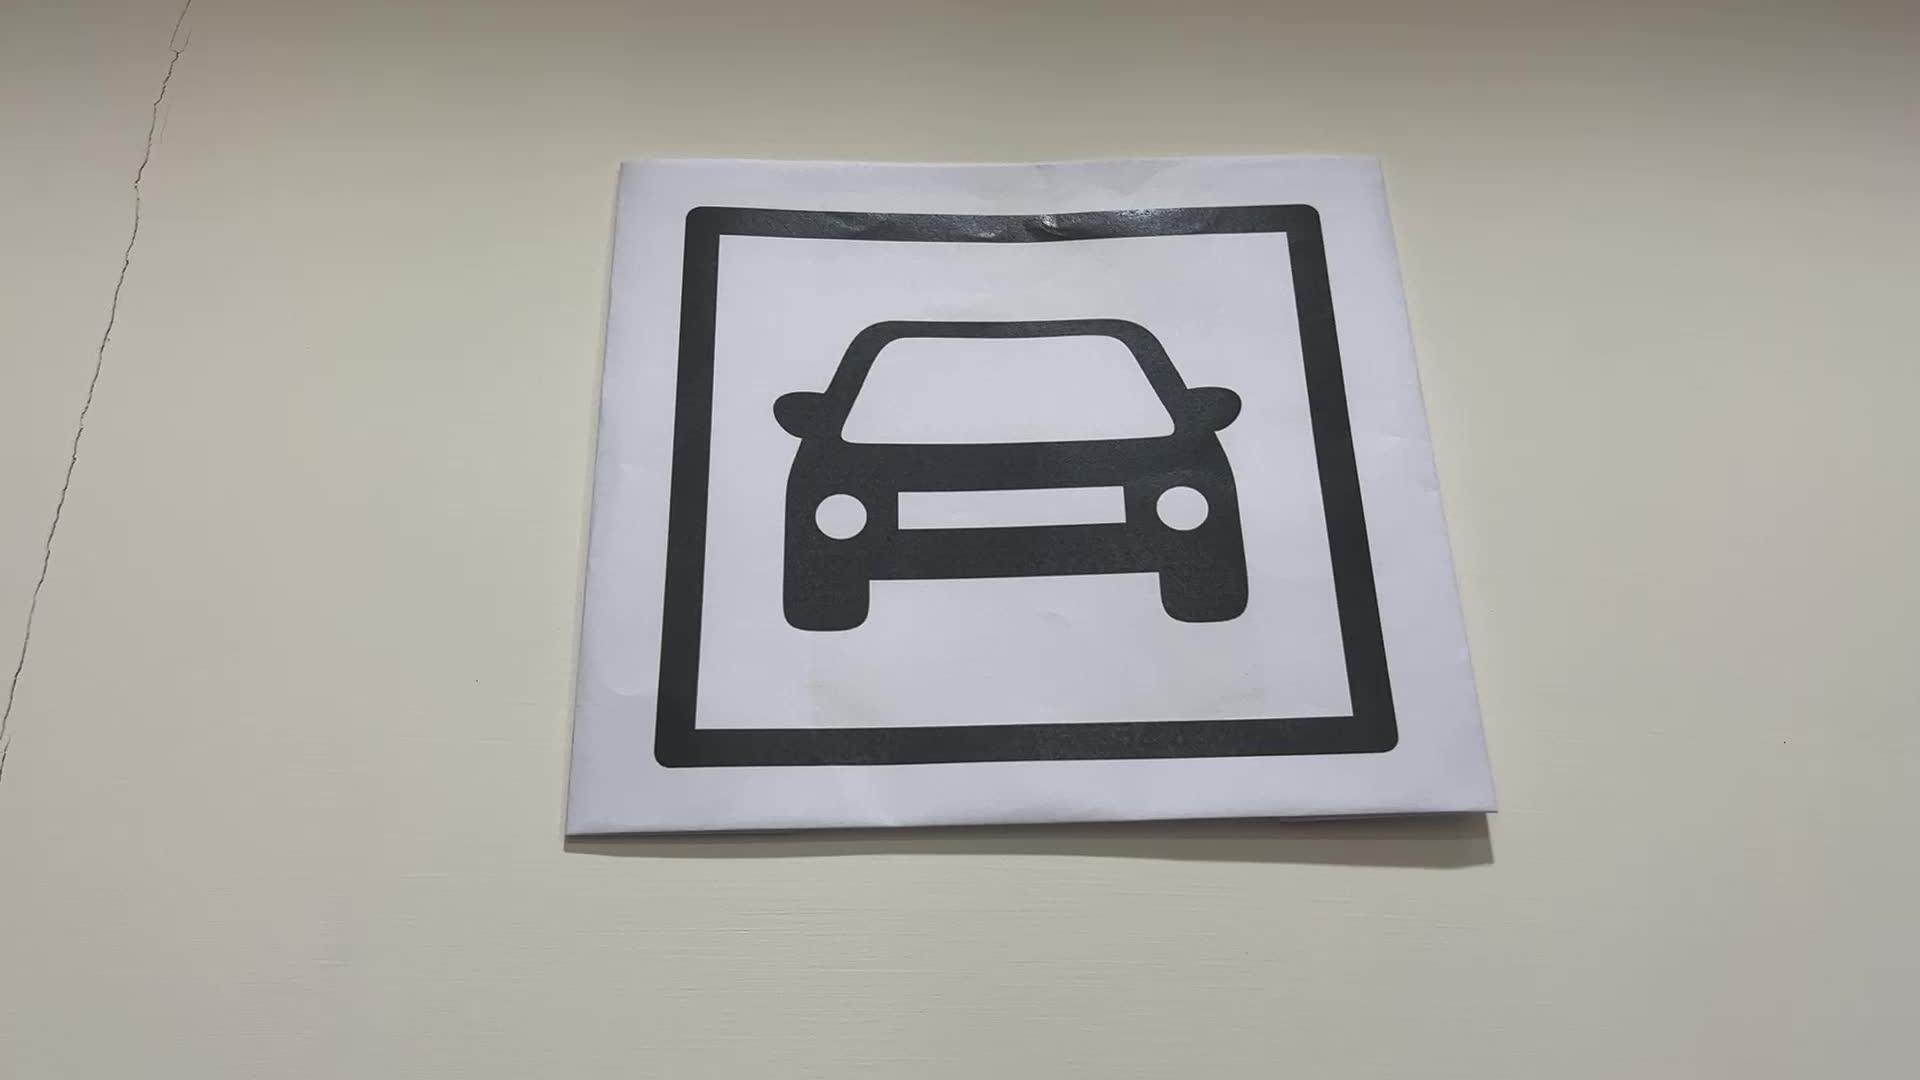car_img: (647, 196, 1404, 773)
